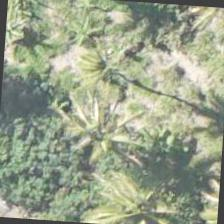Kelapa_Sawit: (55, 18, 151, 114), (42, 86, 138, 182), (71, 167, 166, 223)
